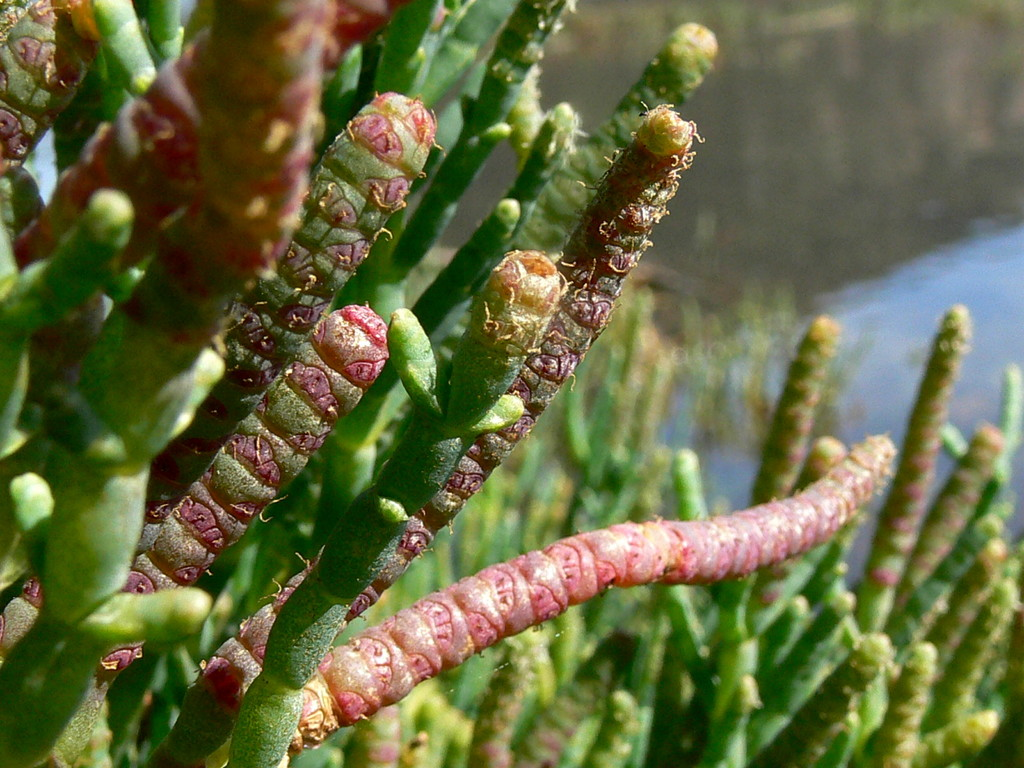face: (214, 0, 402, 106)
